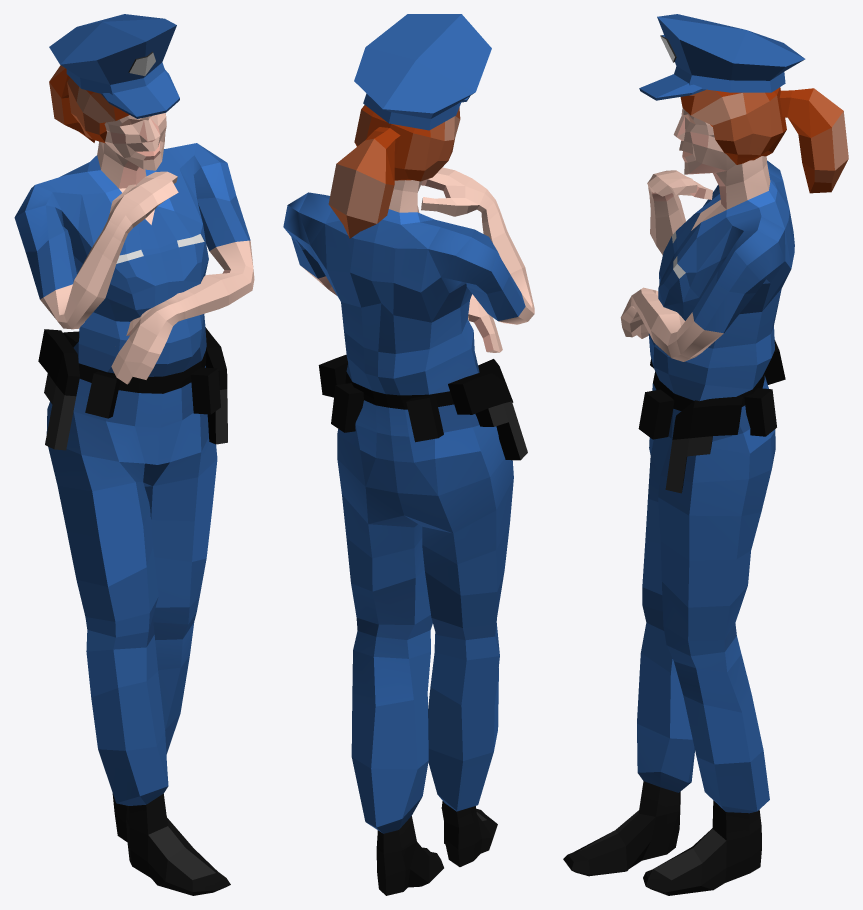
The model's file is police-officer.glb.
The picture shows the model from 3 angles, left to right: view 1: azimuth 30°, elevation 25°; view 2: azimuth 150°, elevation 25°; view 3: azimuth 270°, elevation 25°; orthographic projection. The views are drawn at different scales.
Parts seen in each view (by area): view 1: police-officer; view 2: police-officer; view 3: police-officer.
Boxes of the visible parts, left/top/right/bottom form: police-officer: left=14, top=14, right=254, bottom=895; police-officer: left=283, top=14, right=534, bottom=895; police-officer: left=563, top=14, right=848, bottom=895.
Bounding box in the file's own units: 0.4457 × 1.71 × 0.5183.
1 material, 1 textured.
